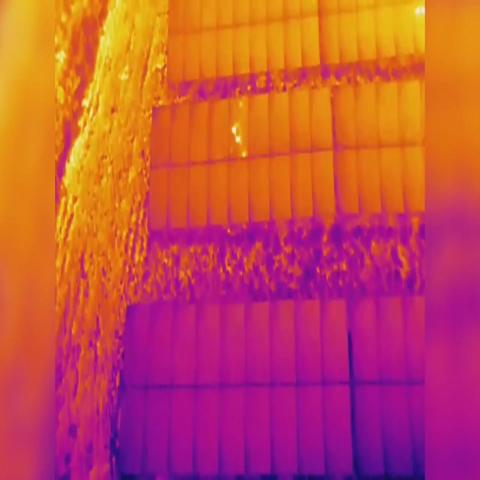fault: (229, 124, 237, 136), (242, 151, 248, 158), (235, 137, 241, 144)
